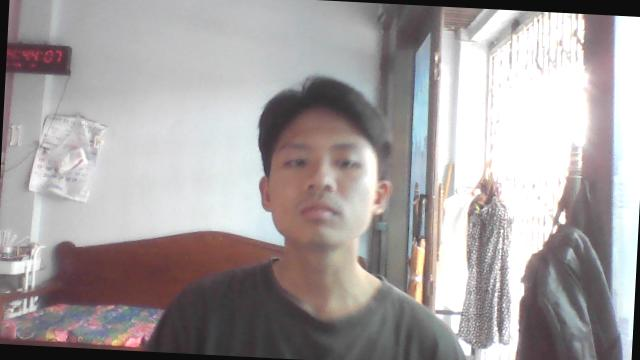fokus: (259, 109, 380, 248)
